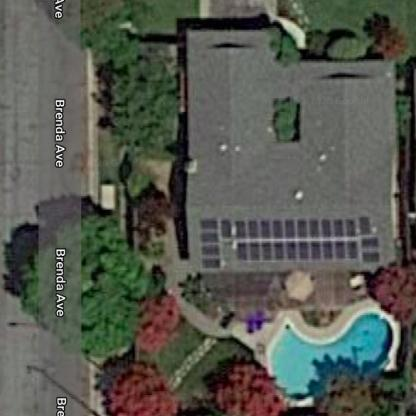solar_panel: (201, 206, 390, 279)
swimming_pool: (258, 301, 399, 416)
